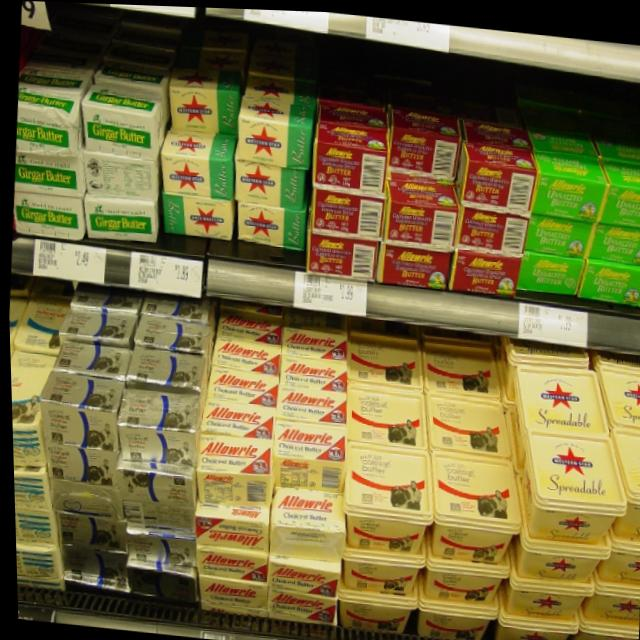q289: (507, 434, 624, 553), (505, 357, 611, 447), (510, 532, 595, 588), (501, 581, 583, 622)
